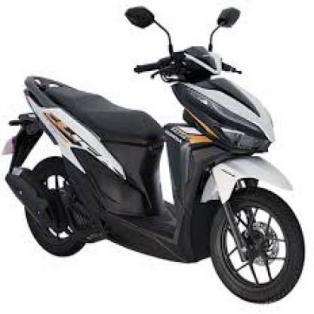Motocicleta: (2, 0, 314, 306)
